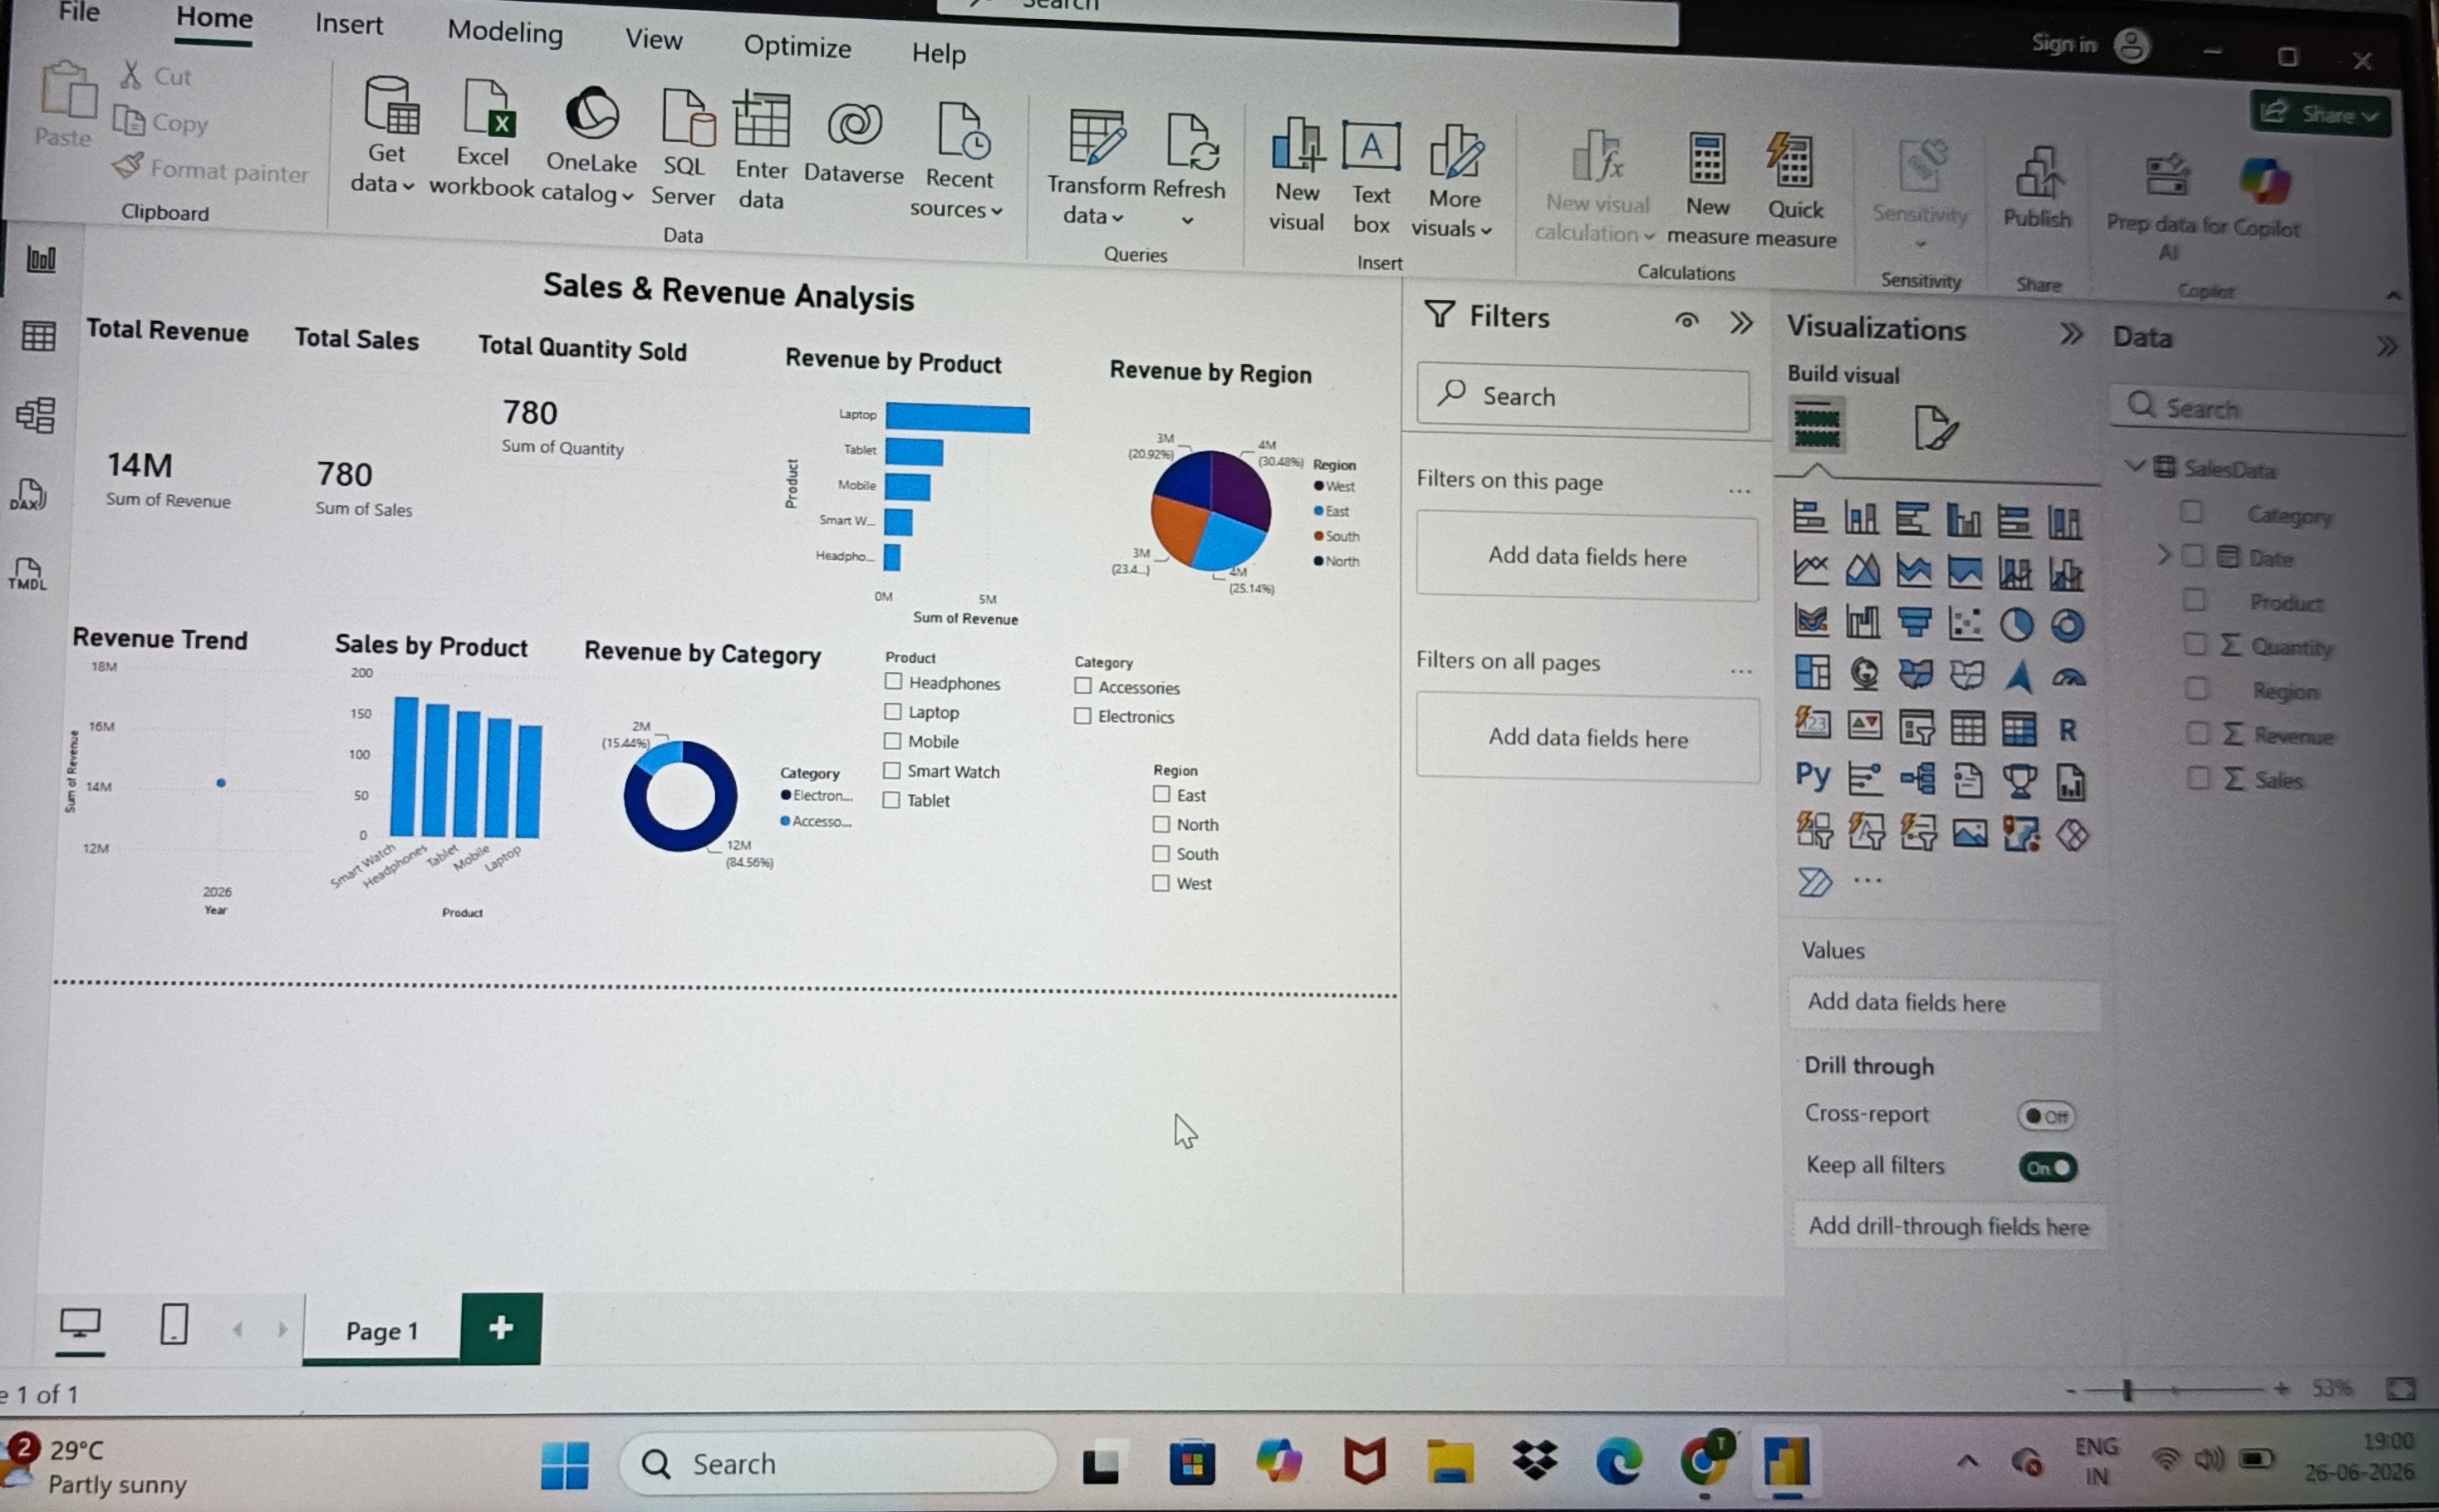

What the dashboard file says about the page in this screenshot:
{"tool":"powerbi","page":{"name":"Page 1","canvas":[1280,720],"ordinal":0},"visuals":[{"type":"cardVisual","title":"Total Revenue","fields":{"Data":["Sum(SalesData.Revenue)"]},"box":[0,86.9,279.7,279.7],"z":0},{"type":"cardVisual","title":"Total Sales","fields":{"Data":["Sum(SalesData.Sales)"]},"box":[192.8,88.8,279.7,281.6],"z":1},{"type":"cardVisual","title":"Total Quantity Sold","fields":{"Data":["Sum(SalesData.Quantity)"]},"box":[364.7,88.8,279.7,149.3],"z":2},{"type":"clusteredBarChart","title":"Revenue by Product","fields":{"Category":["SalesData.Product"],"Y":["Sum(SalesData.Revenue)"]},"box":[659.5,88.8,281.6,279.7],"z":3},{"type":"pieChart","title":"Revenue by Region","fields":{"Category":["SalesData.Region"],"Y":["Sum(SalesData.Revenue)"]},"box":[980.8,88.8,279.7,279.7],"z":4},{"type":"lineChart","title":"Revenue Trend","fields":{"Category":["SalesData.Date.Variation.Date Hierarchy.Year","SalesData.Date.Variation.Date Hierarchy.Quarter","SalesData.Date.Variation.Date Hierarchy.Month","SalesData.Date.Variation.Date Hierarchy.Day"],"Y":["Sum(SalesData.Revenue)"]},"box":[0,383.6,240,279.7],"z":5},{"type":"clusteredColumnChart","title":"Sales by Product","fields":{"Category":["SalesData.Product"],"Y":["Sum(SalesData.Sales)"]},"box":[240,383.6,217.3,279.7],"z":6},{"type":"donutChart","title":"Revenue by Category","fields":{"Category":["SalesData.Category"],"Y":["Sum(SalesData.Revenue)"]},"box":[472.4,383.6,281.6,279.7],"z":7},{"type":"slicer","fields":{"Values":["SalesData.Product"]},"box":[754,383.6,240,211.7],"z":8},{"type":"slicer","fields":{"Values":["SalesData.Category"]},"box":[941.1,383.6,240,211.7],"z":9},{"type":"slicer","fields":{"Values":["SalesData.Region"]},"box":[1020.5,489.5,240,211.7],"z":10},{"type":"textbox","title":"Sales & Revenue Analysis","box":[425.2,22.7,430.9,64.3],"z":11}]}

Visuals, with their boxes on the page's 1280x720 design canvas (x1, y1, x2, y2). These are canvas units, not pixel positions in the 2439x1512 screenshot, which may show the page scaled, cropped or inside an application window:
"Total Revenue" cardVisual: select_region(0, 87, 280, 367)
"Total Sales" cardVisual: select_region(193, 89, 472, 370)
"Total Quantity Sold" cardVisual: select_region(365, 89, 644, 238)
"Revenue by Product" clusteredBarChart: select_region(660, 89, 941, 368)
"Revenue by Region" pieChart: select_region(981, 89, 1260, 368)
"Revenue Trend" lineChart: select_region(0, 384, 240, 663)
"Sales by Product" clusteredColumnChart: select_region(240, 384, 457, 663)
"Revenue by Category" donutChart: select_region(472, 384, 754, 663)
slicer - SalesData.Product: select_region(754, 384, 994, 595)
slicer - SalesData.Category: select_region(941, 384, 1181, 595)
slicer - SalesData.Region: select_region(1020, 490, 1260, 701)
"Sales & Revenue Analysis" textbox: select_region(425, 23, 856, 87)
